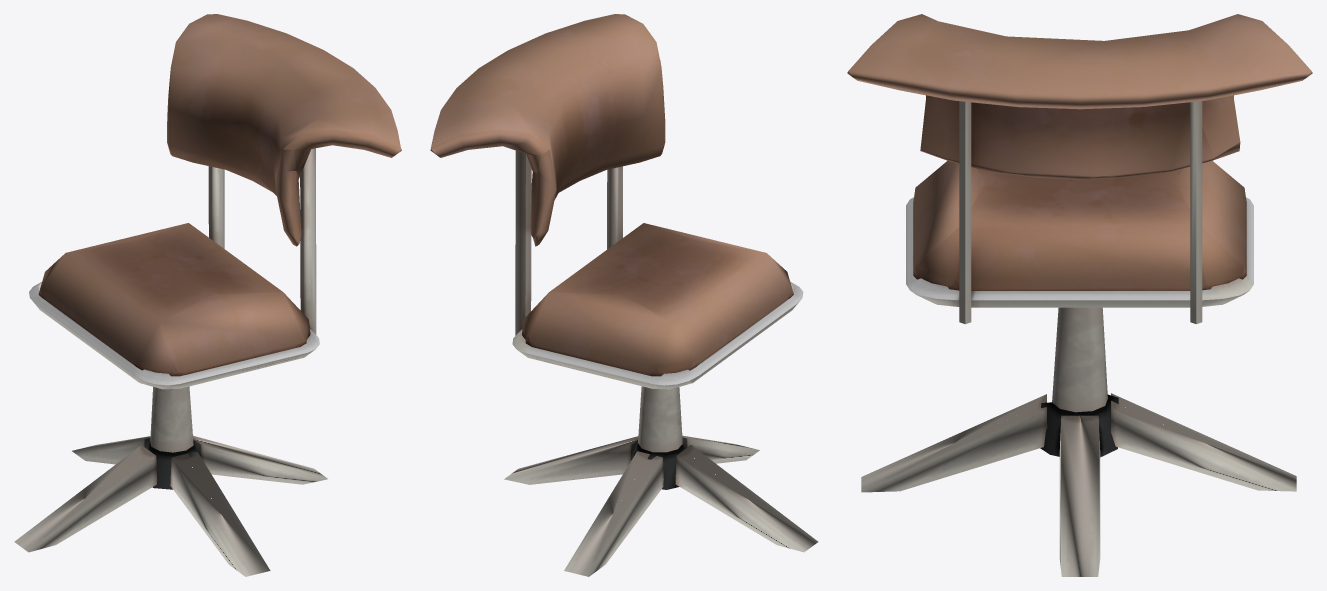
File: Office_chair_LOD2.fbx
3 views of the same model, side by side, from view 1: azimuth 30°, elevation 25°; view 2: azimuth 150°, elevation 25°; view 3: azimuth 270°, elevation 25° (orthographic). The views are drawn at different scales.
Parts seen in each view (by area): view 1: Office_chair_LOD2; view 2: Office_chair_LOD2; view 3: Office_chair_LOD2.
Part boxes in pixels (left/top/right/bottom): Office_chair_LOD2: left=14, top=14, right=401, bottom=576; Office_chair_LOD2: left=430, top=14, right=818, bottom=576; Office_chair_LOD2: left=847, top=14, right=1312, bottom=576.
Bounding box in the file's own units: 83.04 × 98.71 × 79.69.
1 material, 1 textured.
